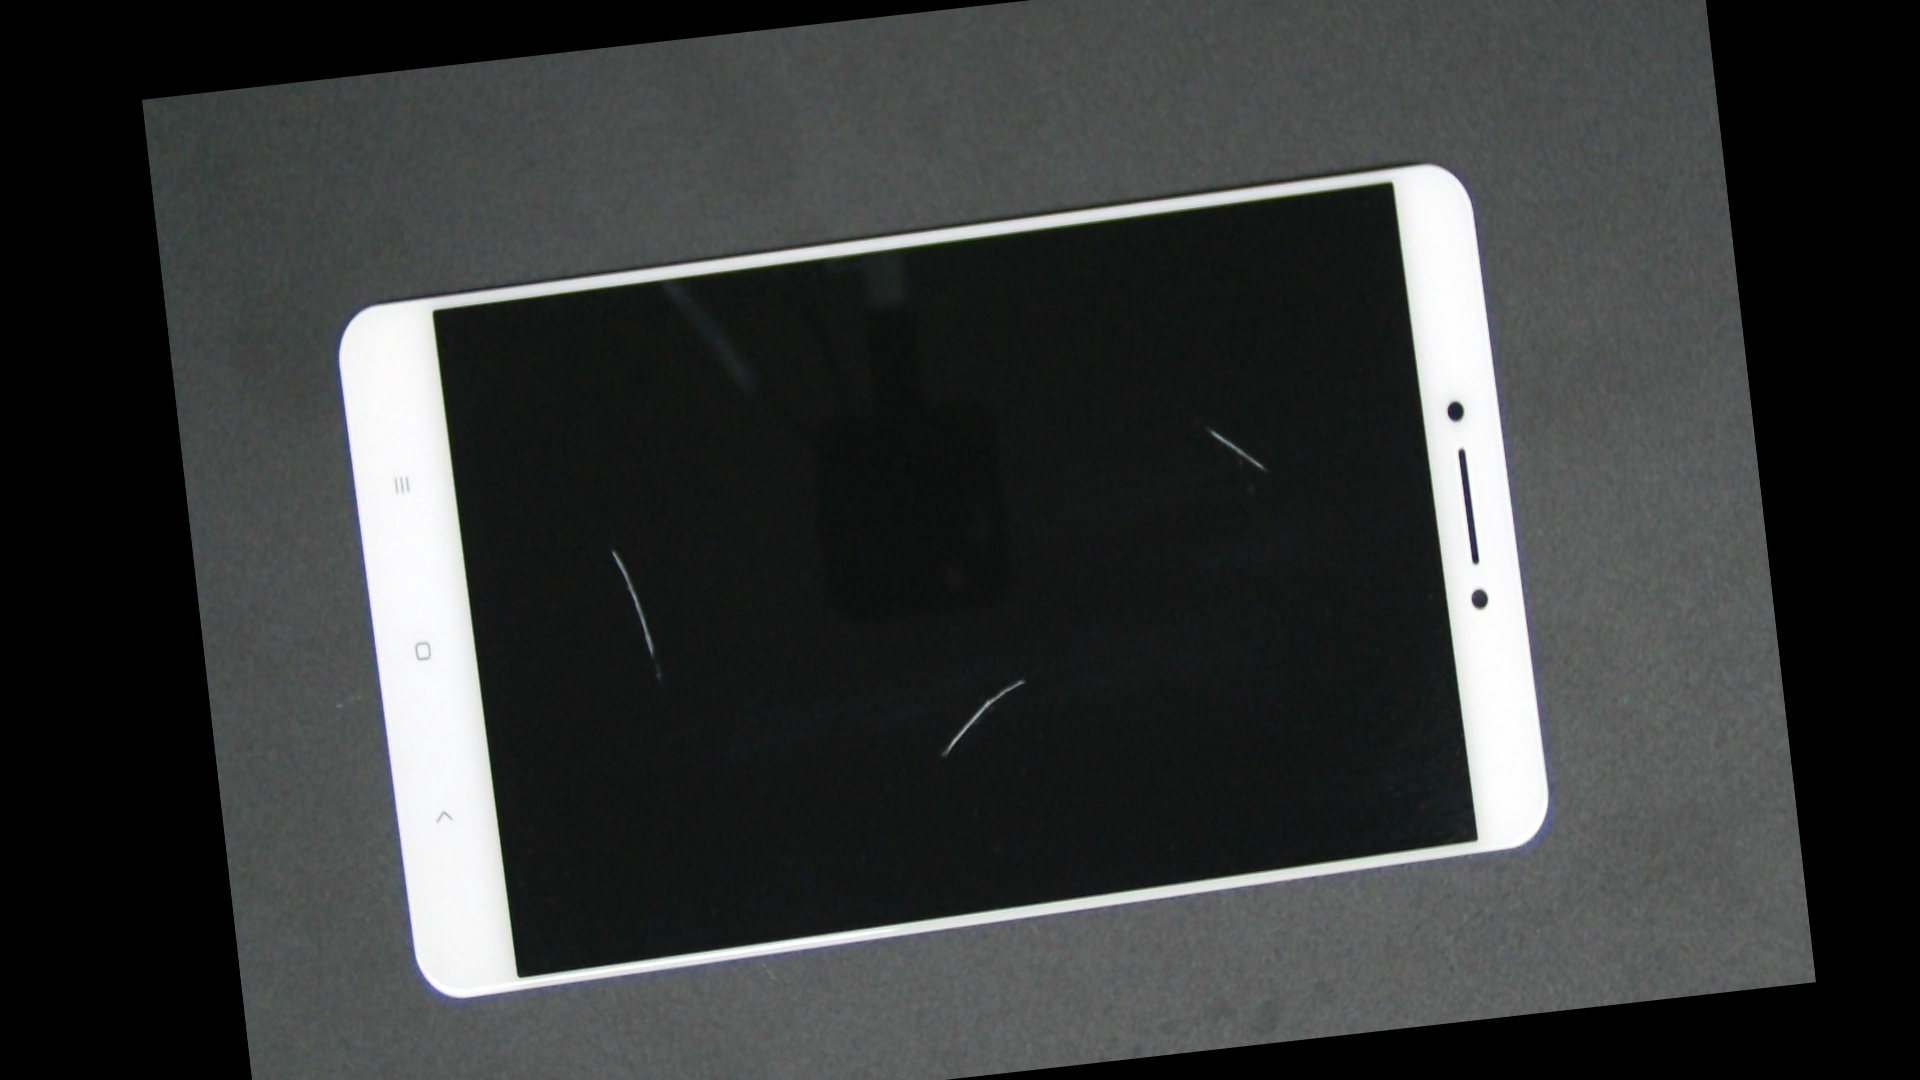oil: (579, 299, 1455, 1059), (675, 149, 1739, 707), (376, 277, 845, 823)
